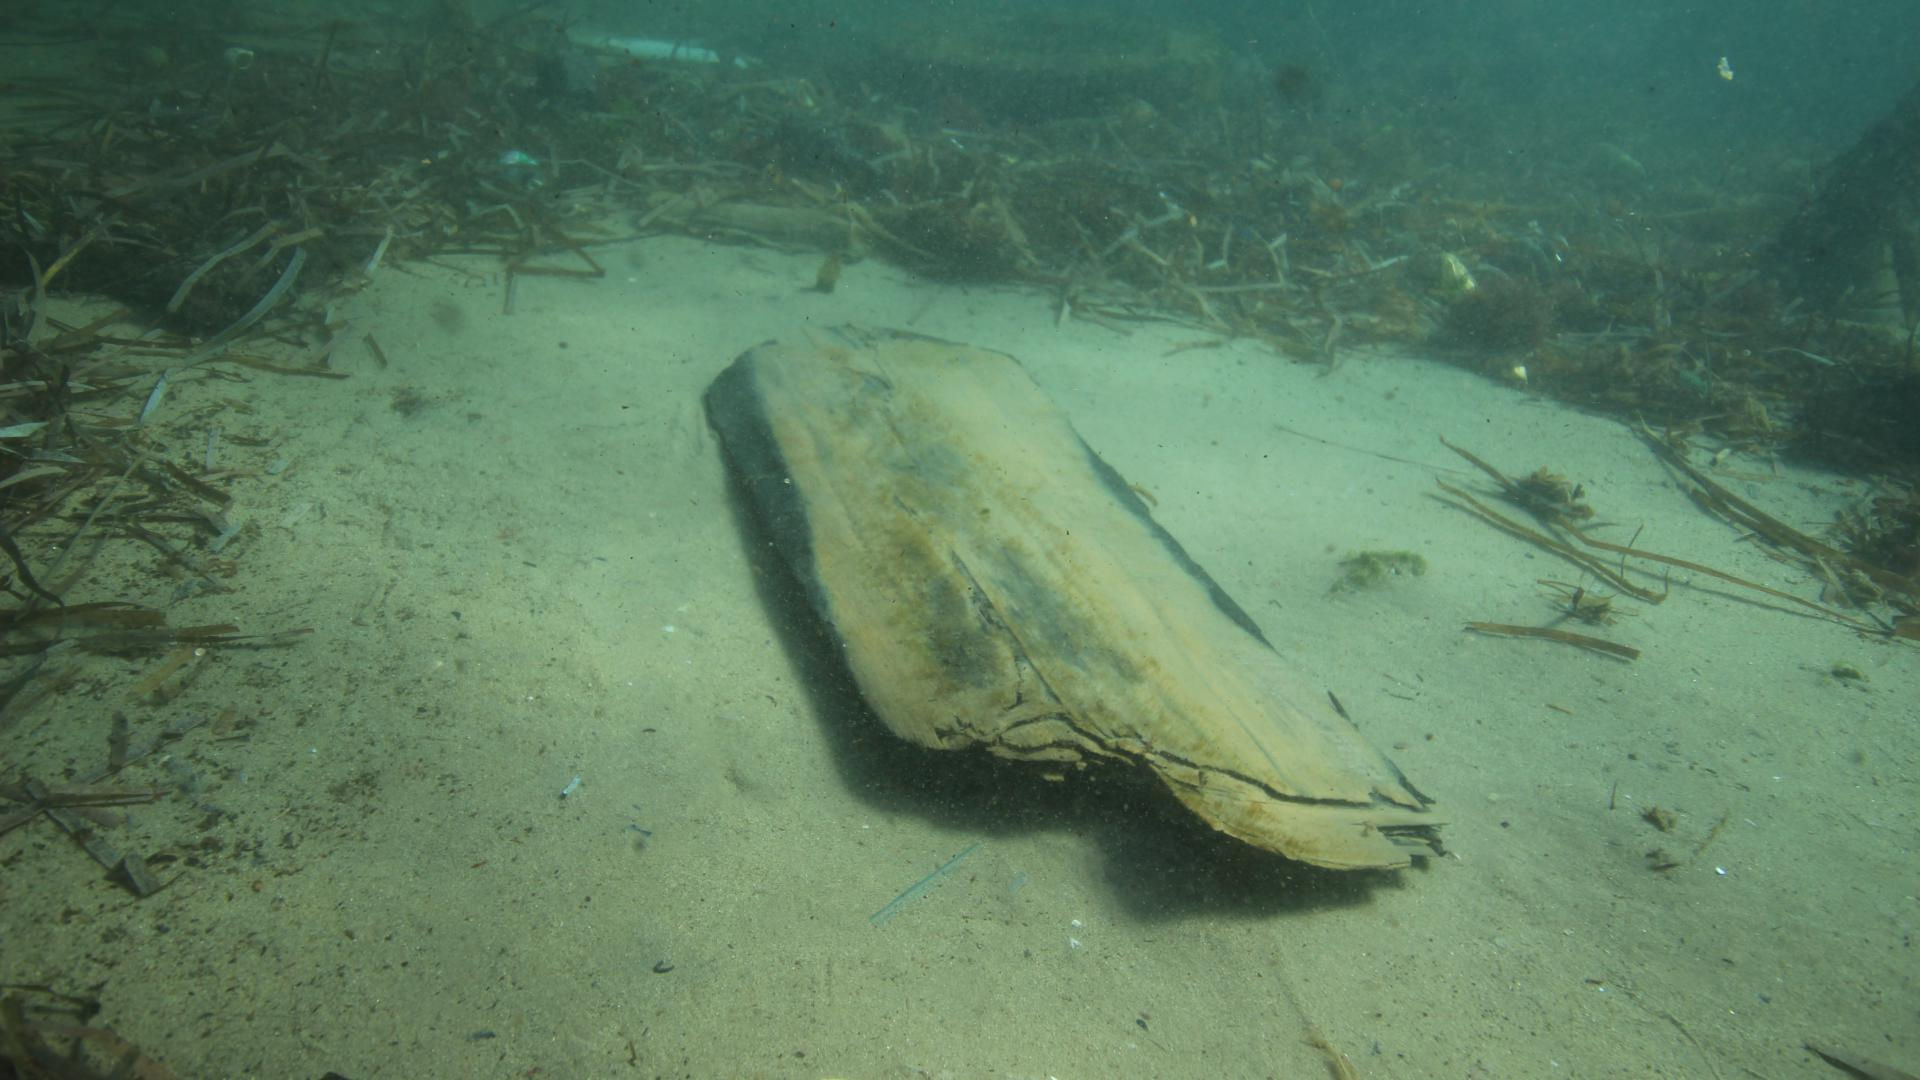wood: (702, 320, 1449, 873)
